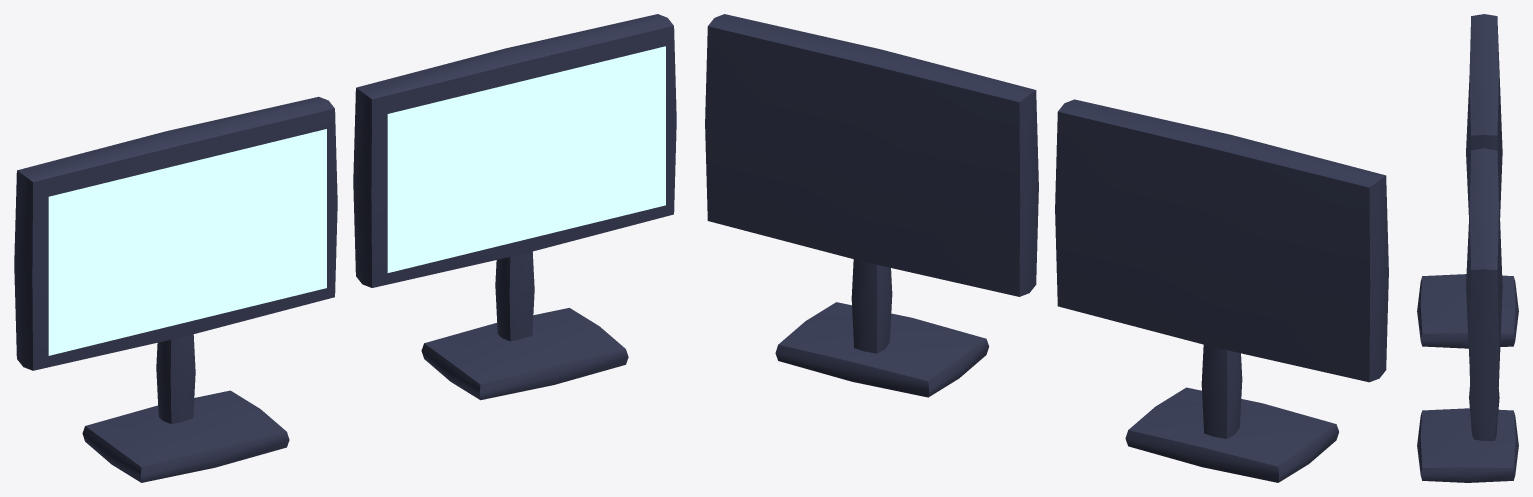
Rendered from monitor-dual.glb.
The picture shows the model from 3 angles, left to right: view 1: azimuth 30°, elevation 25°; view 2: azimuth 150°, elevation 25°; view 3: azimuth 270°, elevation 25°; orthographic projection. The views are drawn at different scales.
Parts seen in each view (by area): view 1: screen (×2), part (×6); view 2: part (×6); view 3: part (×5).
Part boxes in pixels (x1,y1,x2,y2): screen (×2): (48,46,665,355); part (×6): (14,14,676,482); part (×6): (705,14,1388,482); part (×5): (1417,14,1518,482).
Size of the model in its own units: 1.5 by 0.68 by 0.25.
2 materials, 2 textured.
